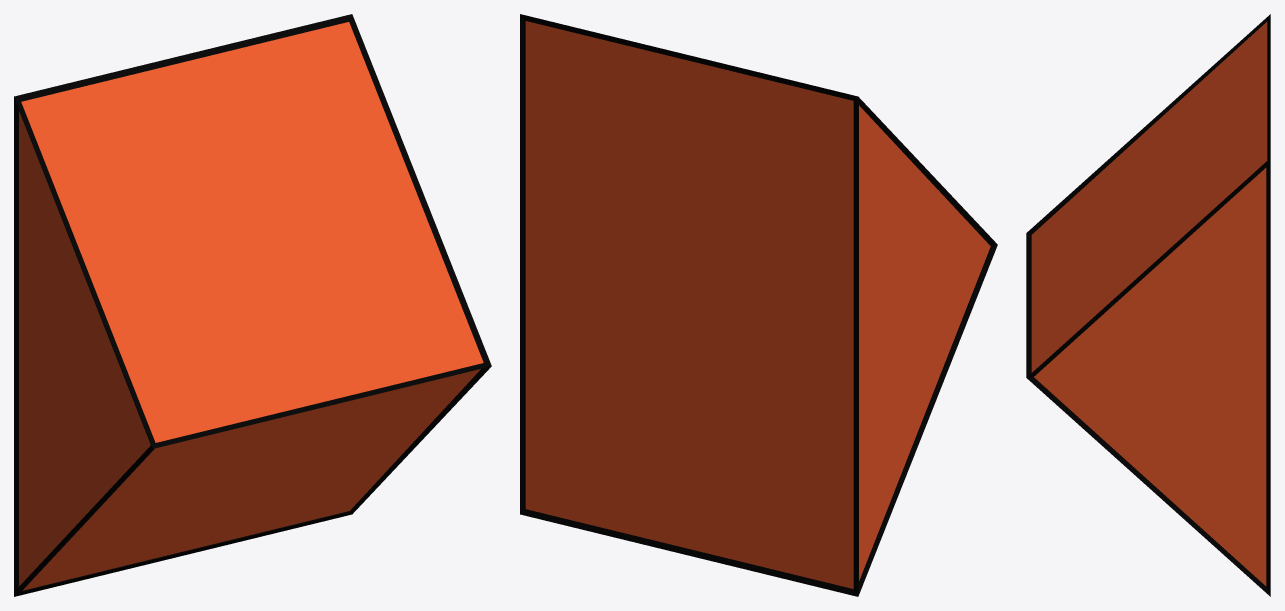
The model's file is triangle_orange.obj.
3 renders of one model, left to right at view 1: azimuth 30°, elevation 25°; view 2: azimuth 150°, elevation 25°; view 3: azimuth 270°, elevation 25°, orthographic. The views are drawn at different scales.
Parts seen in each view (by area): view 1: triangle, triangle.001; view 2: triangle, triangle.001; view 3: triangle, triangle.001.
Part boxes in pixels (x1,y1,x2,y2): triangle: (19, 22, 483, 590); triangle.001: (14, 14, 491, 596); triangle: (525, 21, 990, 588); triangle.001: (520, 14, 997, 596); triangle: (1031, 21, 1267, 585); triangle.001: (1026, 14, 1270, 596).
Bounding box in the file's own units: 0.0512 × 0.0723 × 0.0365.
